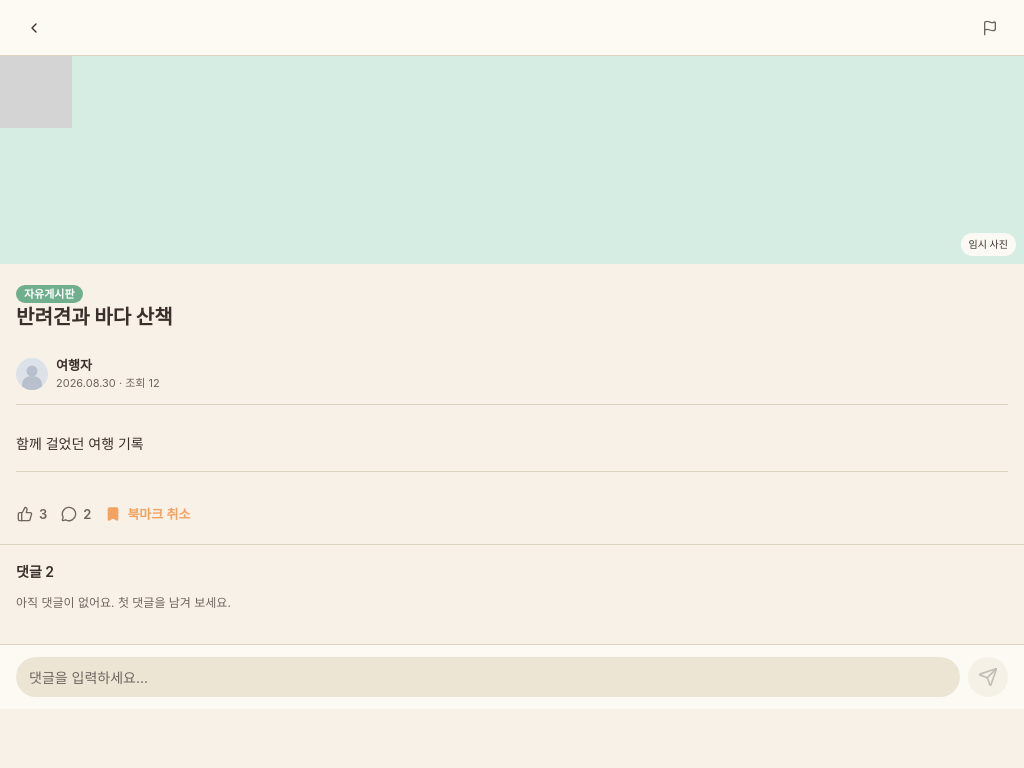
Test: live community board › shows reaction failures and report success in a single dismissible modal
The image size is (1024, 768).
Step 1. Click the button "북마크 취소" → (148, 514), box [104,496,192,532]
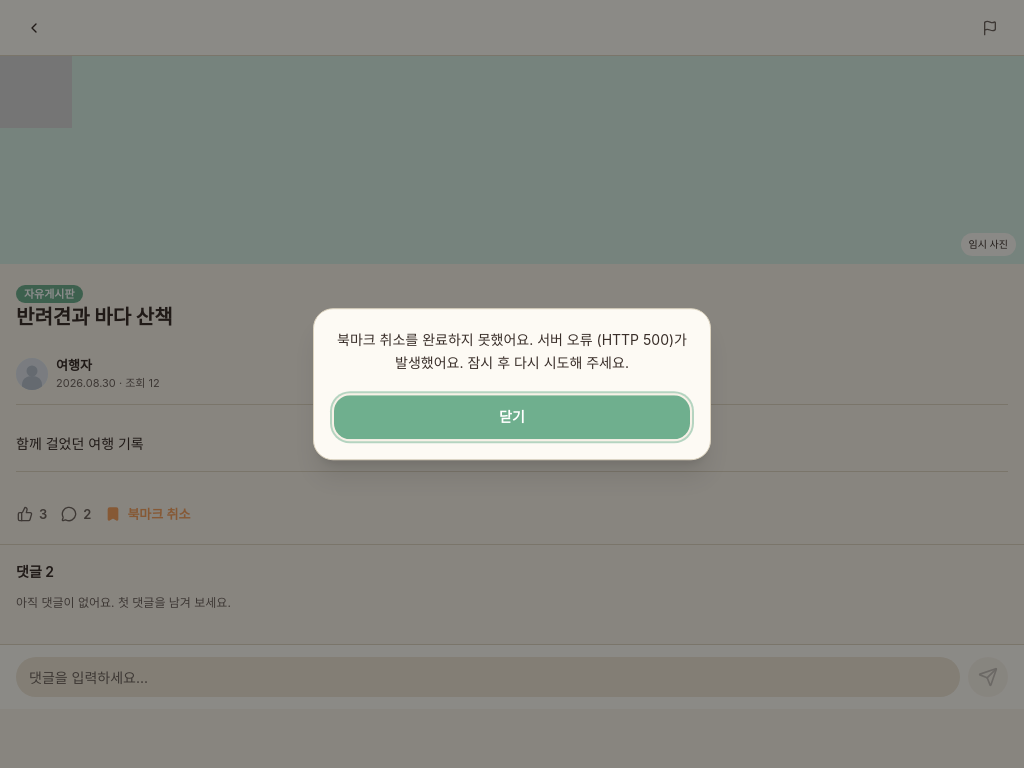
Expected: the dialog named "안내" shows "북마크 취소를 완료하지 못했어요", [337,331,691,371]
Expected: the number of dialogs is 1, [313,308,711,460]
Step 2. Click the button "닫기" → (512, 417), box [334,395,690,439]
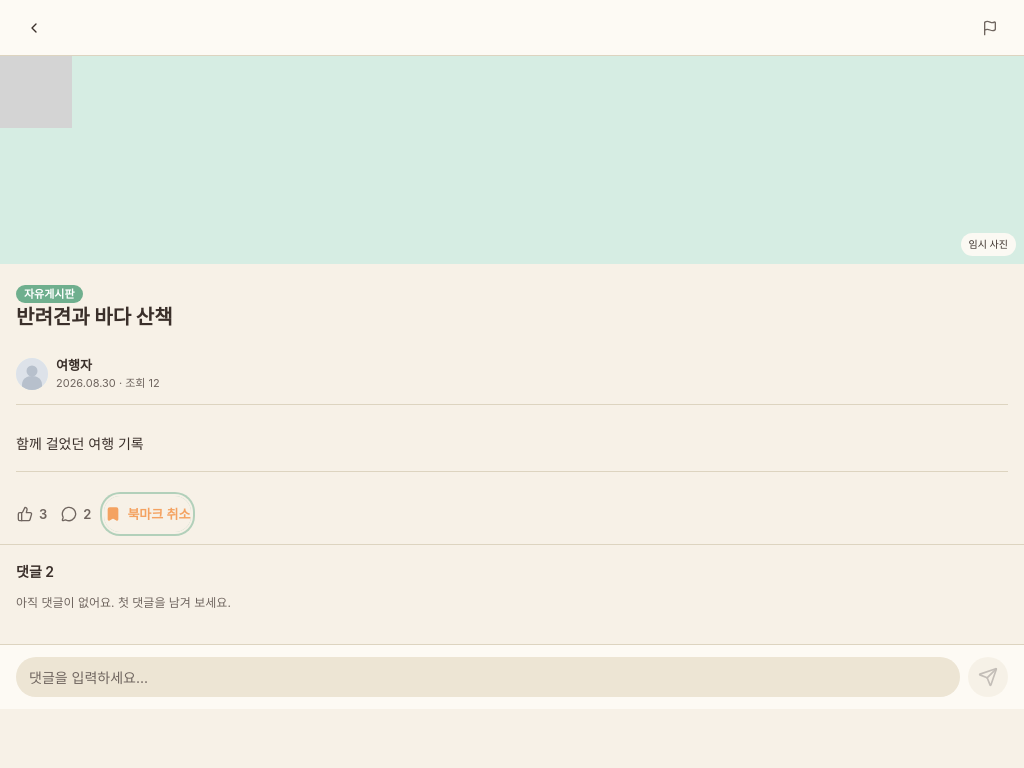
Step 3. Click the button named "광고·스팸 신고" → (990, 28), box [972,10,1008,46]
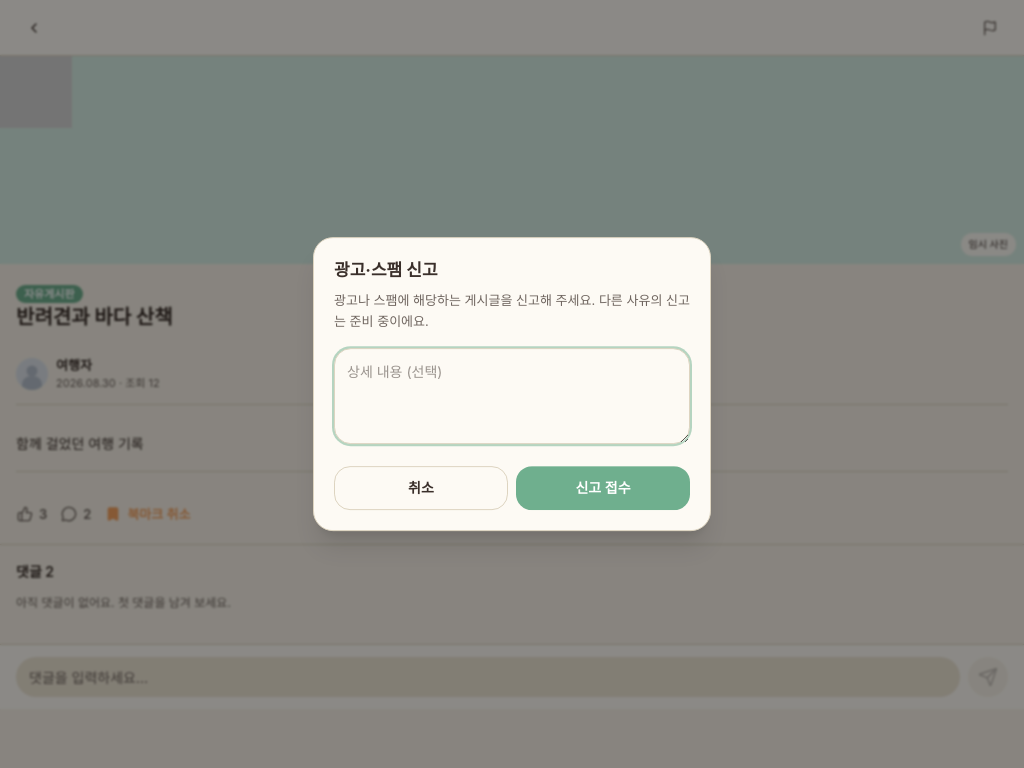
Step 4. Click the button "신고 접수" → (603, 488), box [516,466,690,510]
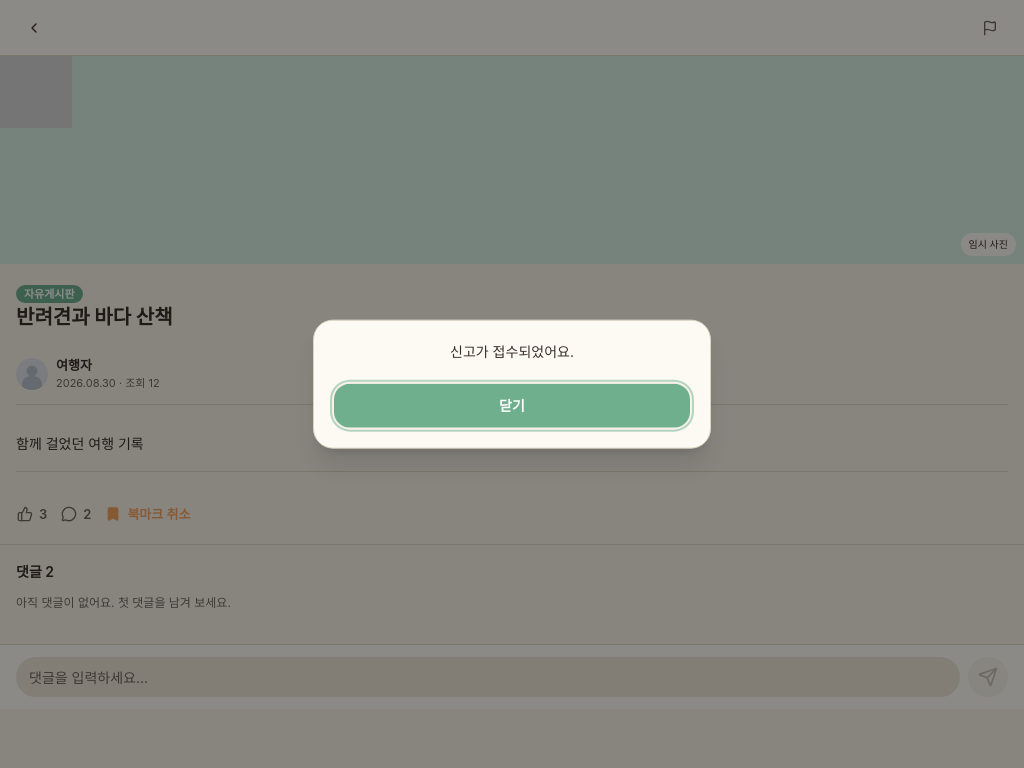
Expected: the dialog named "안내" shows "신고가 접수되었어요.", [450,343,574,360]
Step 5. Click the button "닫기" → (512, 405), box [334,383,690,427]
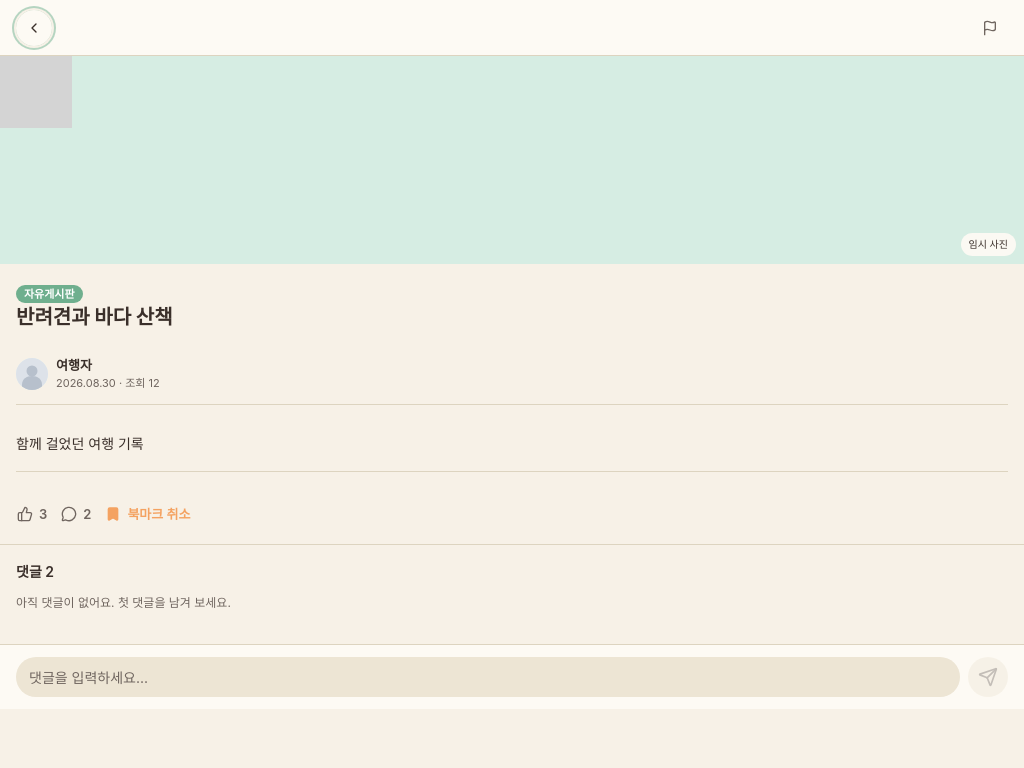
Expected: the heading "반려견과 바다 산책" is shown, [16,305,173,329]
Expected: the dialog is gone
